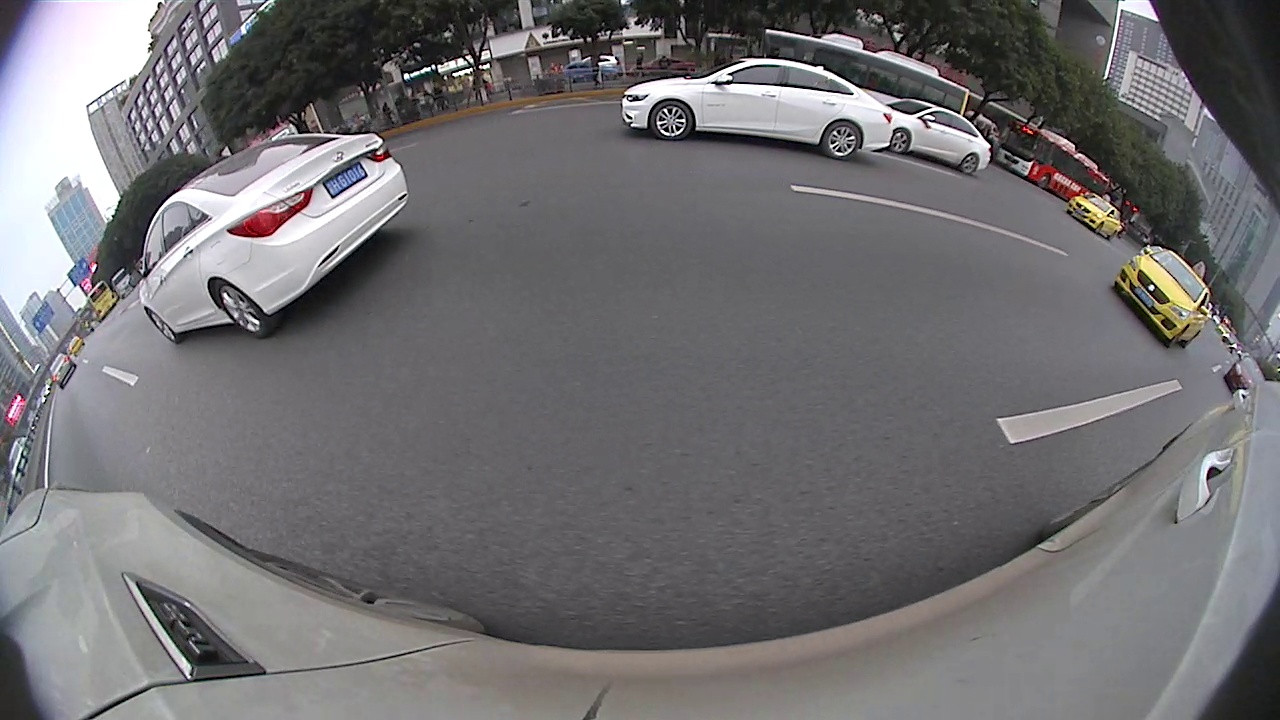car: (0, 126, 414, 519), (871, 134, 1279, 488), (446, 153, 543, 217), (802, 159, 900, 216), (588, 148, 657, 203), (702, 155, 776, 198)
front: (882, 204, 940, 281), (351, 215, 404, 286), (801, 181, 813, 203)
rear: (1168, 370, 1267, 492), (15, 422, 107, 519), (504, 185, 516, 213), (849, 188, 861, 214), (713, 176, 722, 195)
